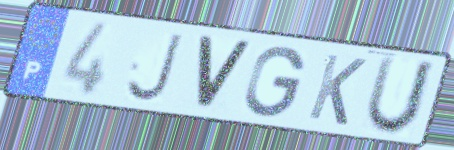4: (59, 19, 111, 100)
G: (242, 44, 308, 120)
J: (123, 30, 186, 105)
K: (304, 51, 370, 129)
U: (361, 53, 441, 139)
V: (195, 33, 255, 114)
